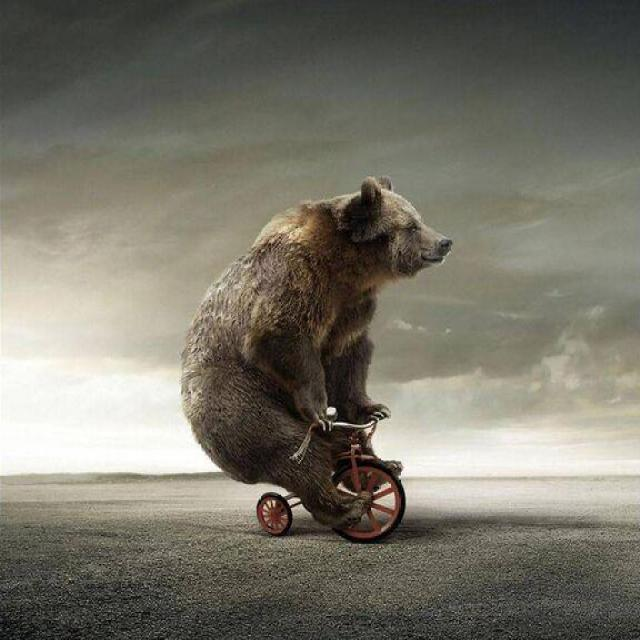Bear: (179, 179, 454, 544)
